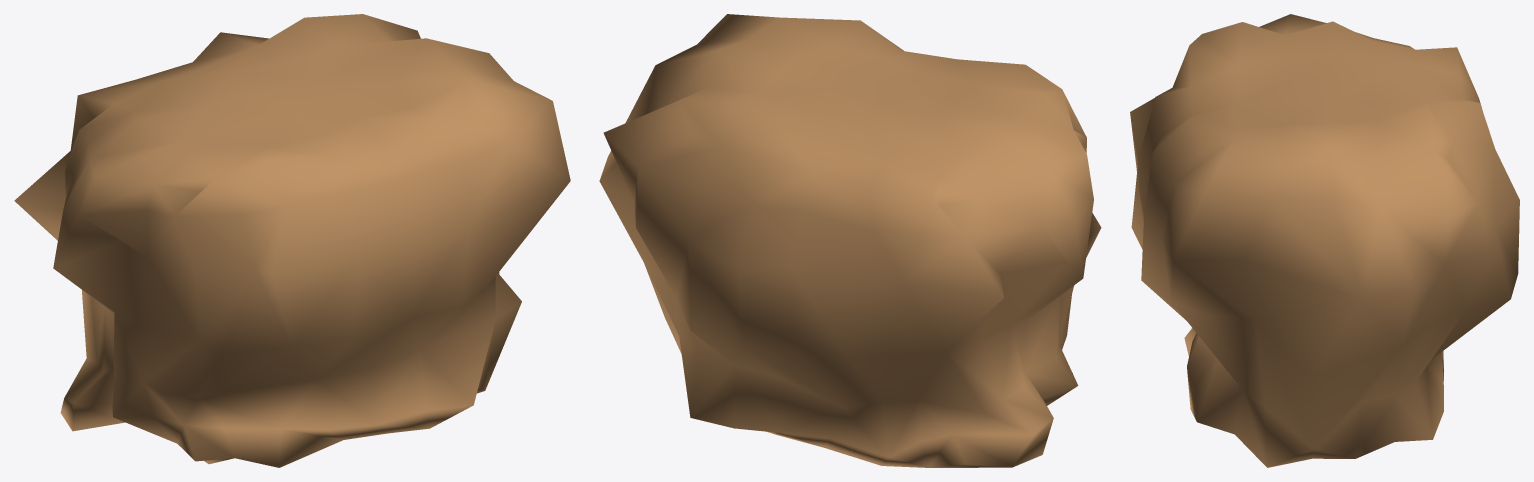
File: terrain_W4lakea.fbx
The picture shows the model from 3 angles, left to right: view 1: azimuth 30°, elevation 25°; view 2: azimuth 150°, elevation 25°; view 3: azimuth 270°, elevation 25°; orthographic projection. The views are drawn at different scales.
Parts seen in each view (by area): view 1: W4Lakea_mesh; view 2: W4Lakea_mesh; view 3: W4Lakea_mesh.
Part boxes in pixels (<box>): W4Lakea_mesh: <box>14,14,570,467</box>; W4Lakea_mesh: <box>599,14,1101,467</box>; W4Lakea_mesh: <box>1130,14,1519,467</box>.
Size of the model in its own units: 6659 by 4609 by 5102.
